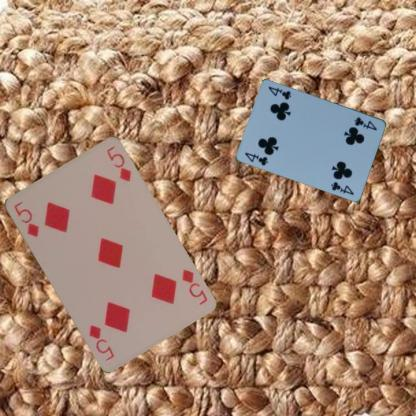4c: (352, 114, 378, 132), (242, 150, 270, 166)
5d: (178, 266, 209, 306), (10, 198, 40, 239)
